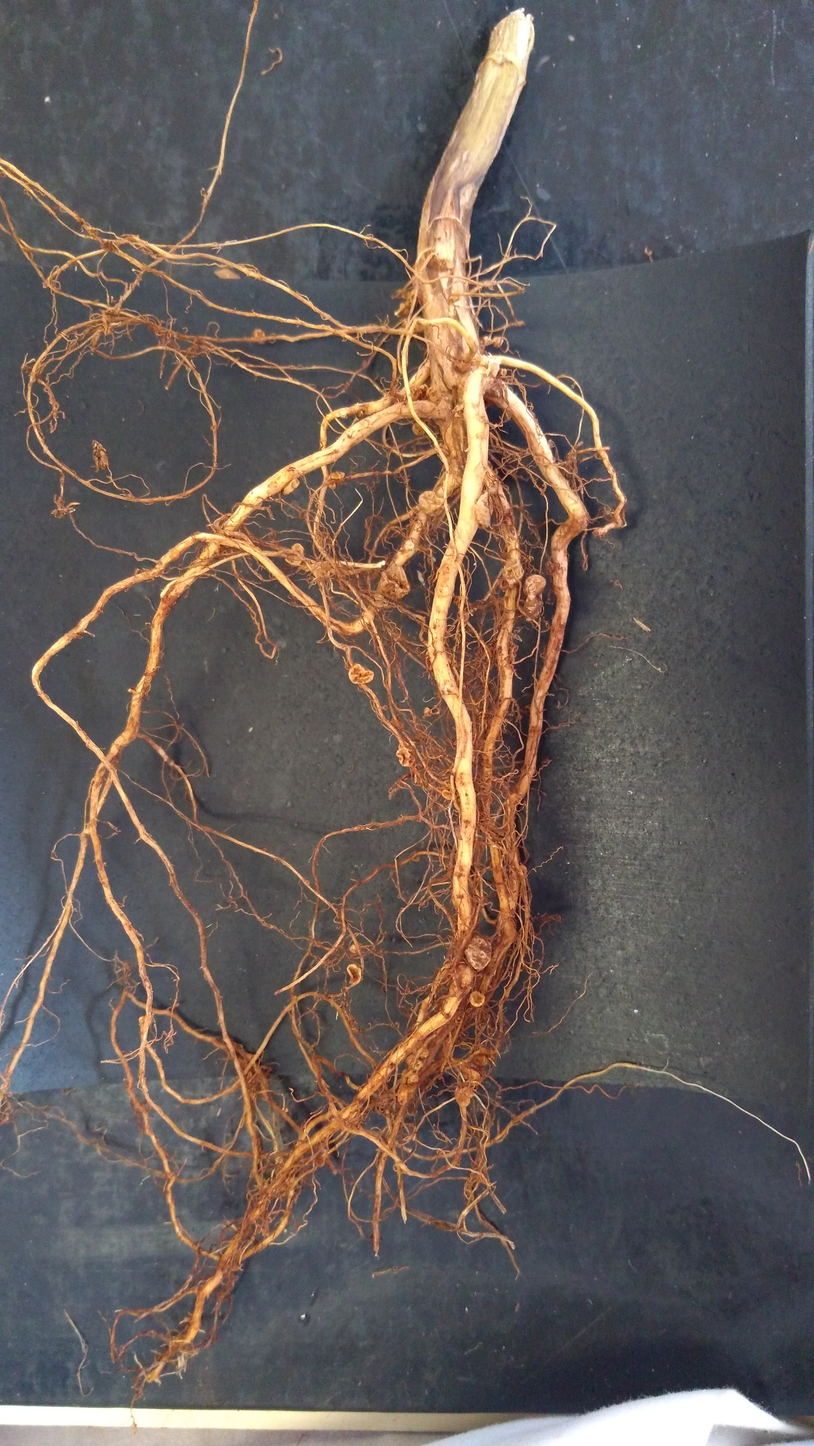nodule: (377, 563, 416, 607), (462, 932, 497, 973), (468, 486, 494, 532), (88, 438, 113, 475), (347, 661, 379, 687), (283, 540, 308, 571), (418, 490, 447, 516), (519, 593, 544, 623), (501, 558, 525, 588), (521, 572, 548, 598), (453, 1084, 475, 1108), (345, 962, 365, 986), (282, 475, 301, 500), (396, 746, 415, 769), (395, 1084, 415, 1105), (404, 1052, 425, 1071), (327, 470, 346, 489), (409, 419, 427, 438), (468, 991, 488, 1008), (251, 327, 268, 345), (401, 1070, 420, 1085), (425, 386, 441, 403), (462, 1066, 482, 1079), (472, 1053, 489, 1068), (412, 1044, 429, 1057), (480, 334, 493, 349), (350, 940, 362, 955), (491, 336, 504, 348), (423, 705, 434, 719)
